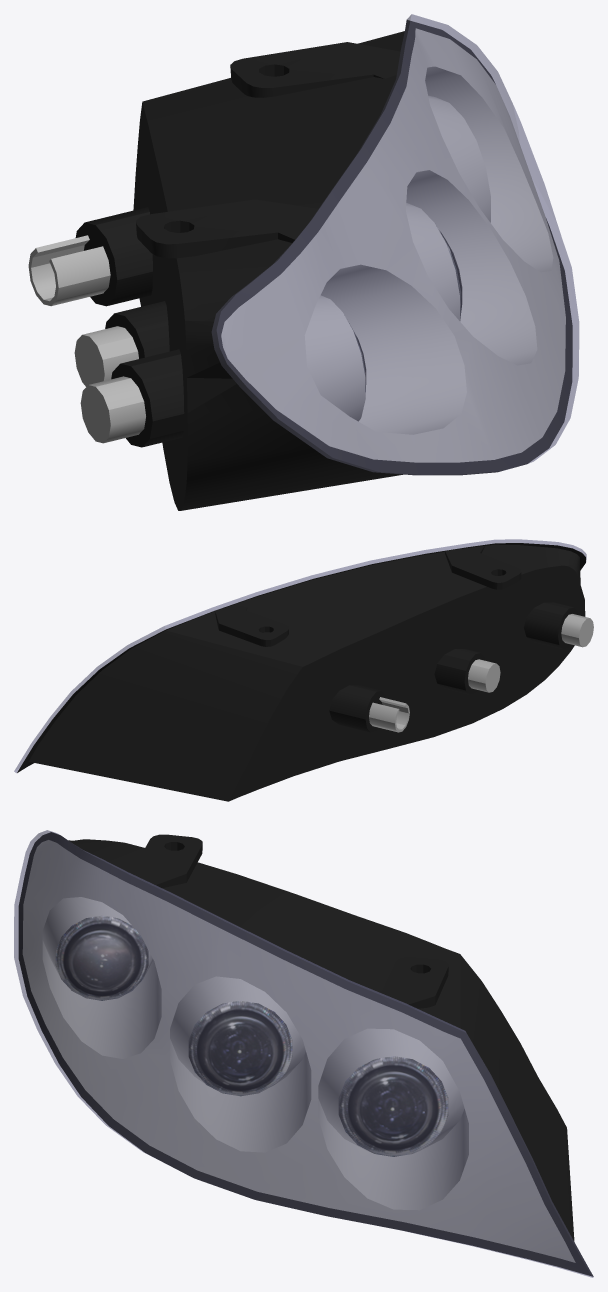
3 views of the same model, one above another, from view 1: azimuth 30°, elevation 25°; view 2: azimuth 150°, elevation 25°; view 3: azimuth 270°, elevation 25° (orthographic). The views are drawn at different scales.
Parts seen in each view (by area): view 1: F183_061B_R_F183_061B_R_5_DTaSI, F183_061B_R_1_N_F183_061B_R, F183_061B_R_F183_061B_R_2_D; view 2: F183_061B_R_F183_061B_R_2_D, F183_061B_R_1_N_F183_061B_R, F183_061B_R_F183_061B_R_5_DTaSI; view 3: F183_061B_R_F183_061B_R_5_DTaSI, F183_061B_R_1_N_F183_061B_R, F183_061B_R_F183_061B_R_2_D, F183_061B_R_F183_061B_R_6_N, F183_061B_R_F183_061B_R_4_N, F183_061B_R_F183_061B_R_3_N.
Part boxes in pixels (x1,y1,x2,y2): F183_061B_R_F183_061B_R_5_DTaSI: (212,14,579,474); F183_061B_R_1_N_F183_061B_R: (28,28,565,462); F183_061B_R_F183_061B_R_2_D: (75,20,572,510); F183_061B_R_F183_061B_R_2_D: (17,543,585,801); F183_061B_R_1_N_F183_061B_R: (369,614,593,732); F183_061B_R_F183_061B_R_5_DTaSI: (14,539,586,772); F183_061B_R_F183_061B_R_5_DTaSI: (14,830,593,1277); F183_061B_R_1_N_F183_061B_R: (22,840,575,1262); F183_061B_R_F183_061B_R_2_D: (18,832,593,1276); F183_061B_R_F183_061B_R_6_N: (338,1056,448,1156); F183_061B_R_F183_061B_R_4_N: (188,1000,292,1096); F183_061B_R_F183_061B_R_3_N: (55,915,148,1000).
Size of the model in its own units: 52.37 by 21.73 by 50.29.
